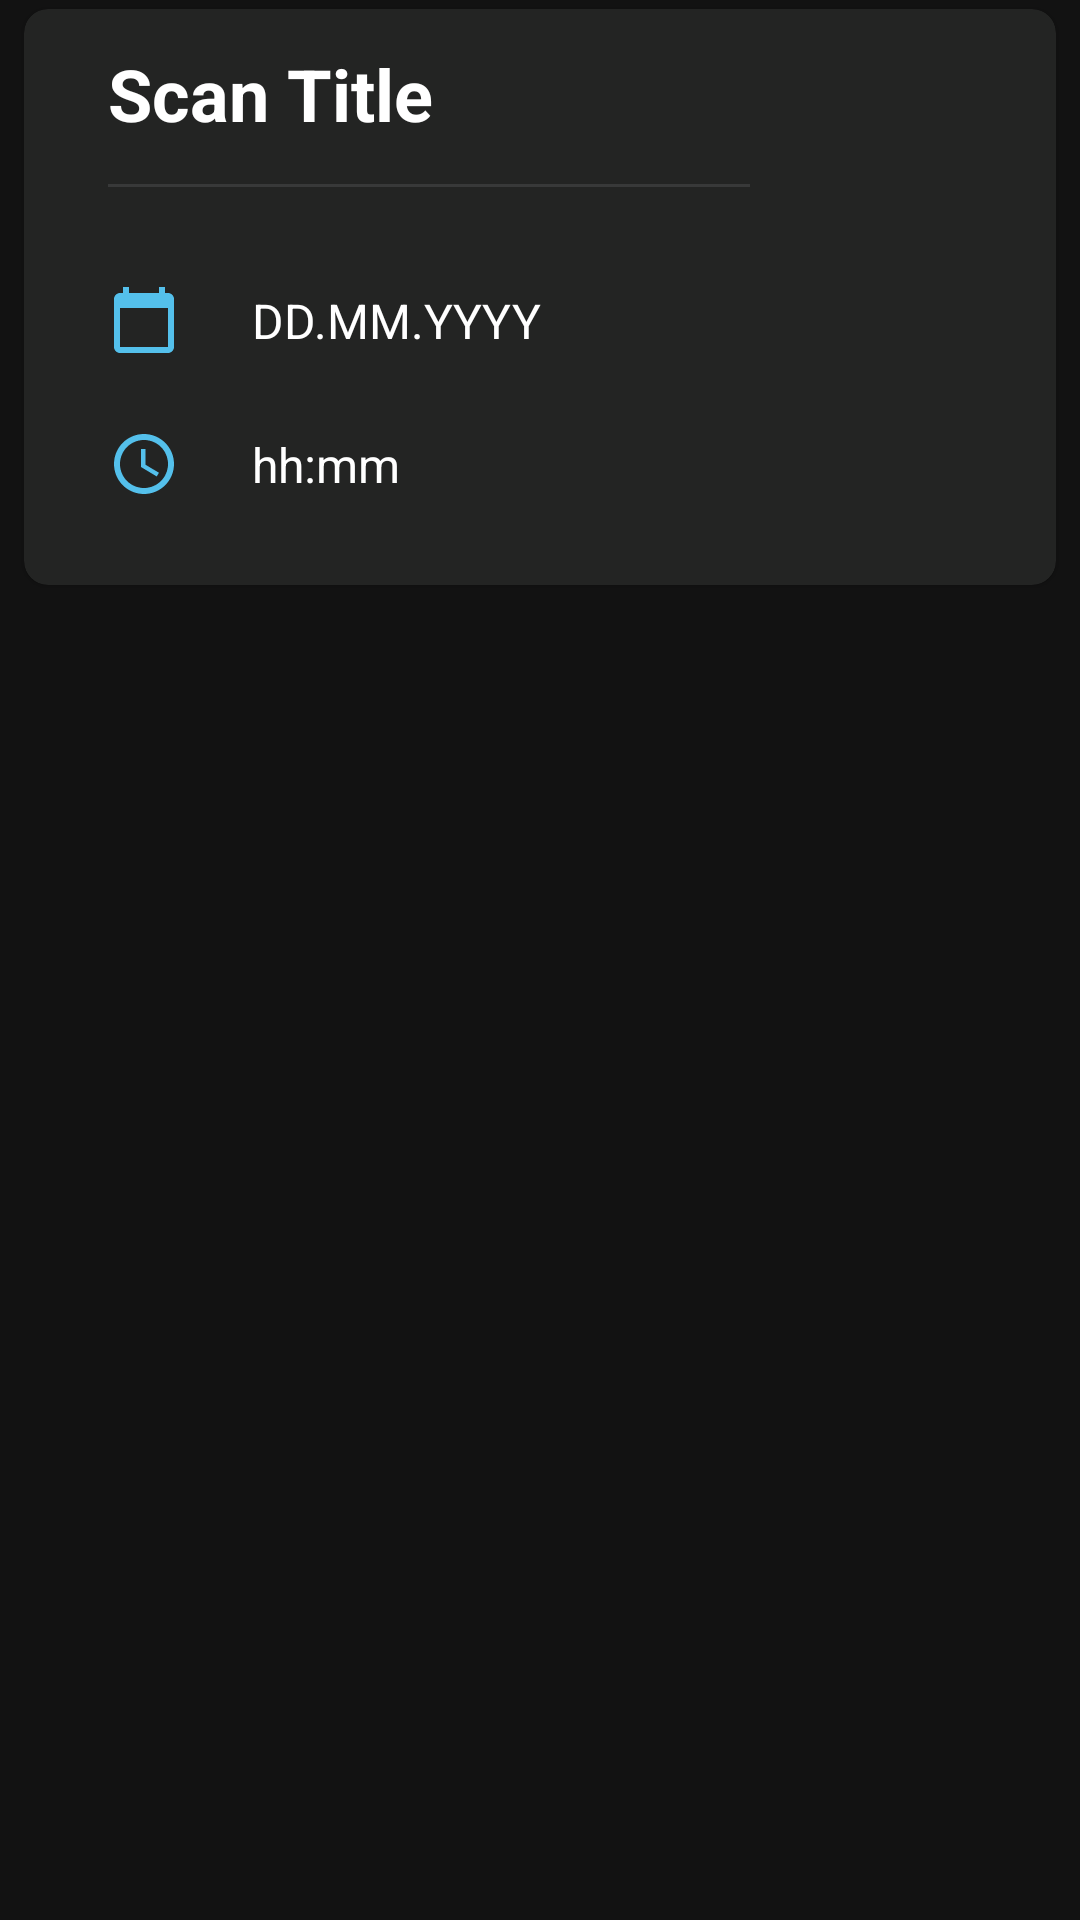

Point at icon controls on the screen. Image size 1080 × 1920, points as (x,y).
date: (144,320)
time: (144,464)
